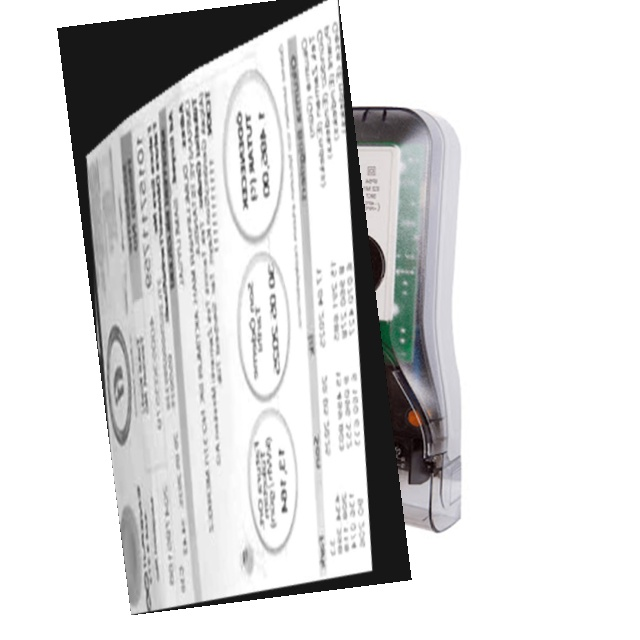electricity-bill: (56, 0, 412, 614)
